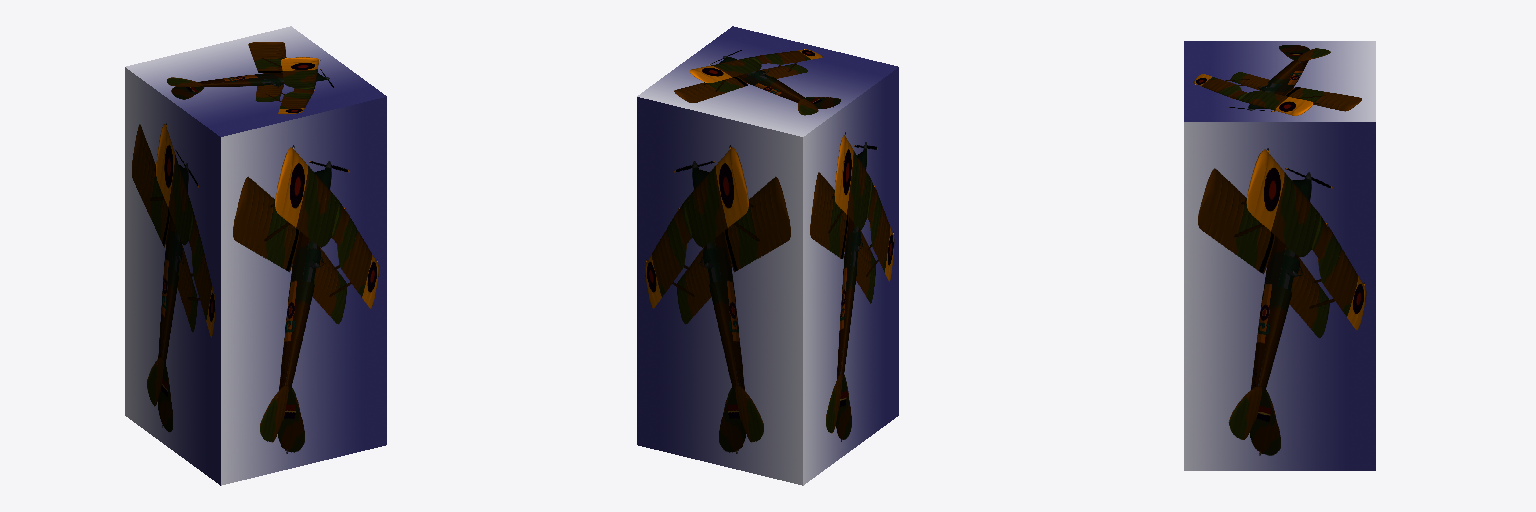
3 renders of one model, left to right at view 1: azimuth 30°, elevation 25°; view 2: azimuth 150°, elevation 25°; view 3: azimuth 270°, elevation 25°, orthographic.
Visible parts, largest first — view 1: cube; view 2: cube; view 3: cube.
Part boxes in pixels (left/top/right/bottom): cube: left=125, top=26, right=386, bottom=485; cube: left=637, top=26, right=898, bottom=485; cube: left=1184, top=41, right=1375, bottom=470.
Size of the model in its own units: 0.5 by 1 by 0.5.
1 materials, 1 textured.